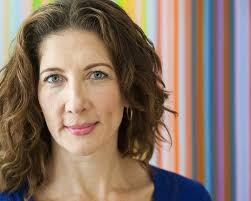white_female: (35, 42, 129, 151)
